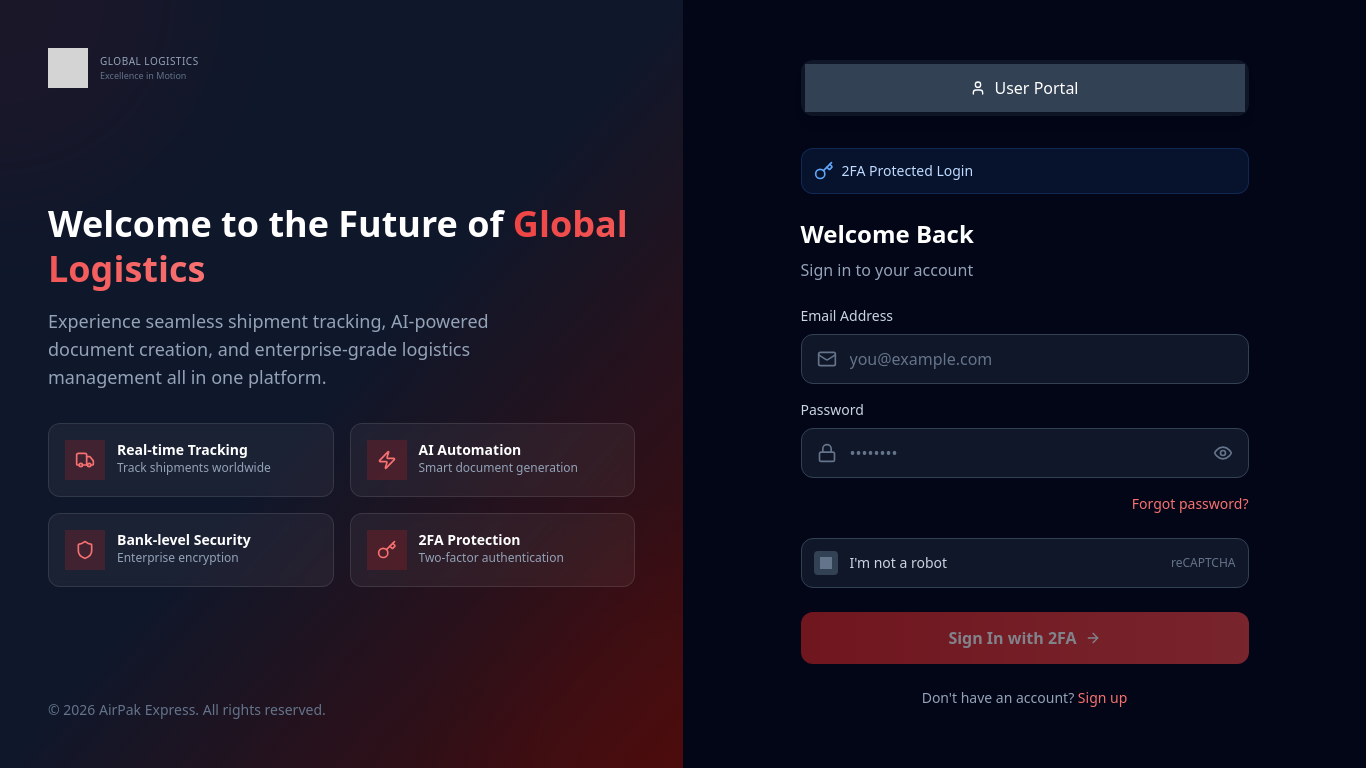
Test: UnifiedAuthPage › Form Interactions › should show forgot password form when clicking forgot password
Click the button "Forgot password?" at (1190, 504), box [1132,494,1248,514]
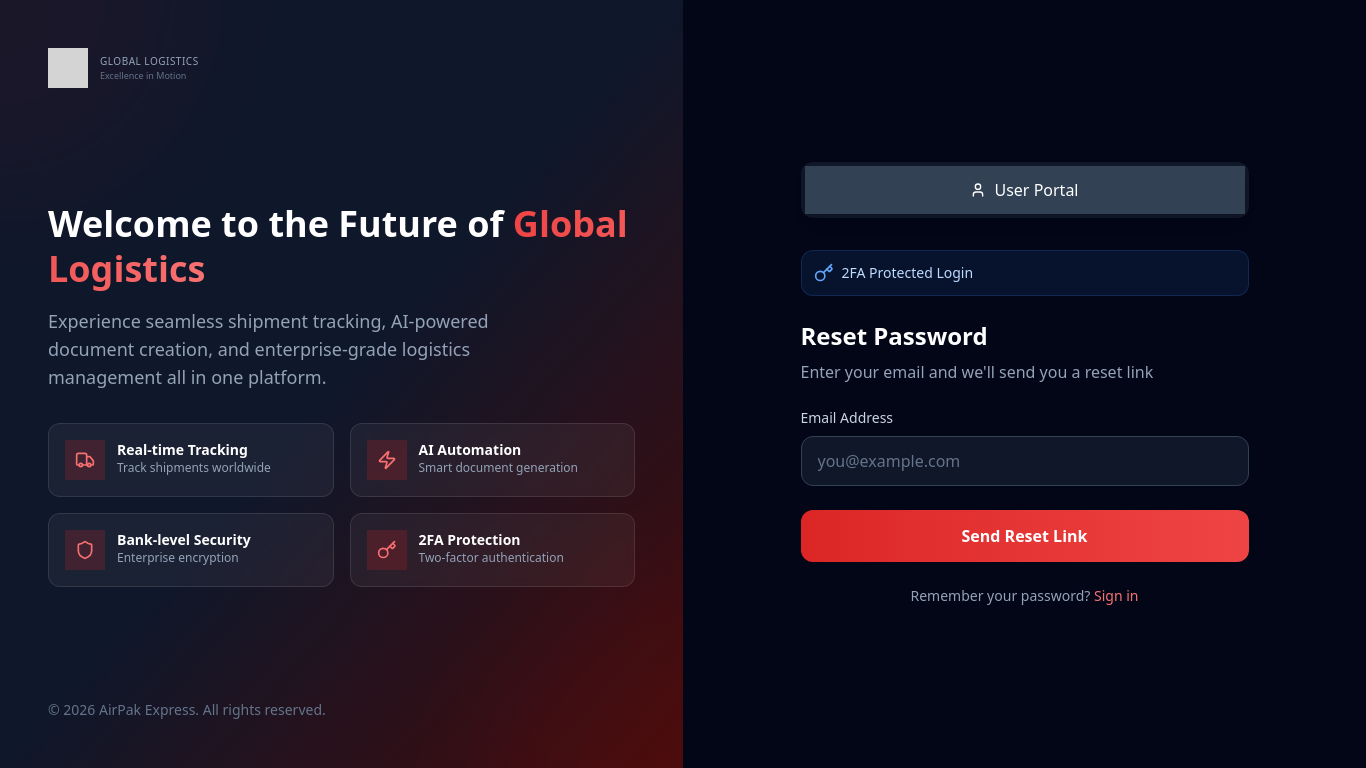
Check: the heading "Reset Password" is shown, box [800,319,988,352]
Check: the button "Send Reset Link" is shown, box [800,510,1248,562]
